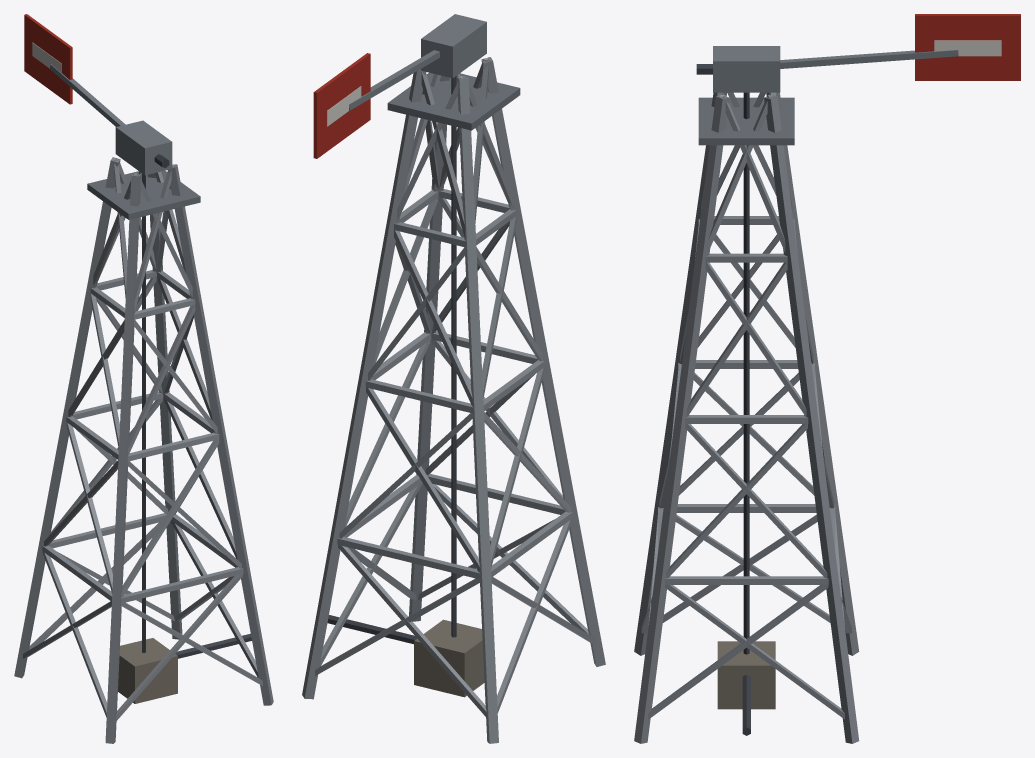
The model's file is windpump.glb.
The picture shows the model from 3 angles, left to right: view 1: azimuth 30°, elevation 25°; view 2: azimuth 150°, elevation 25°; view 3: azimuth 270°, elevation 25°; orthographic projection. The views are drawn at different scales.
Parts seen in each view (by area): view 1: windpump; view 2: windpump; view 3: windpump.
Part boxes in pixels (left/top/right/bottom): windpump: left=14, top=14, right=273, bottom=743; windpump: left=302, top=14, right=605, bottom=743; windpump: left=634, top=14, right=1020, bottom=743.
Size of the model in its own units: 2.77 by 7.83 by 4.02.
